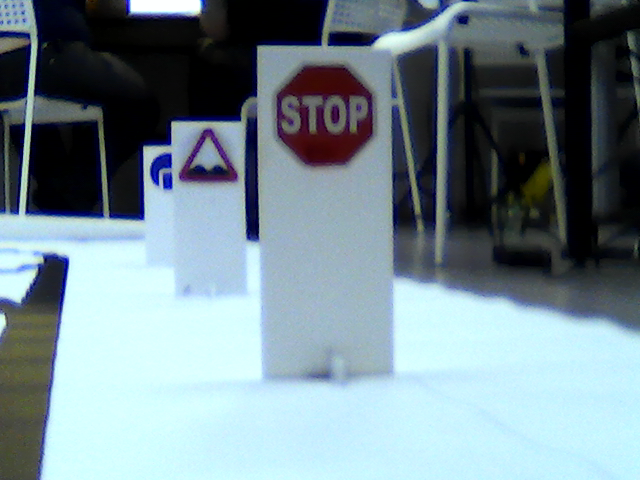Nerov: (177, 129, 238, 181)
Stop: (269, 60, 372, 163)
